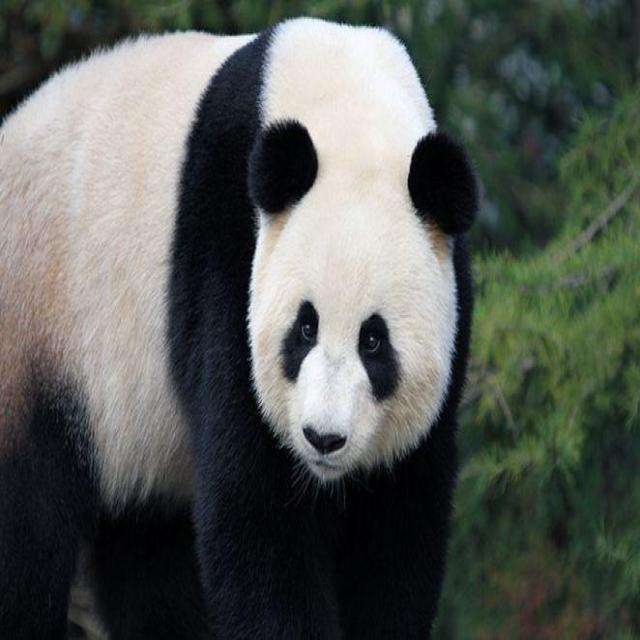panda: (1, 17, 482, 640)
